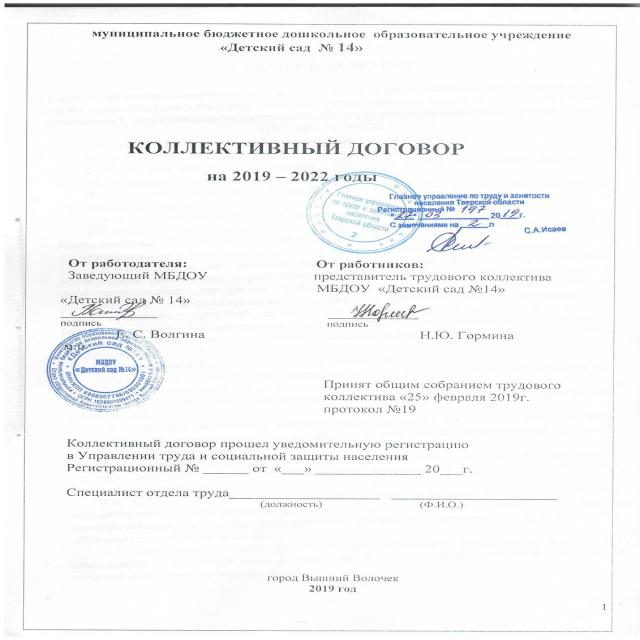stamps: (38, 312, 201, 414), (311, 155, 448, 251)
